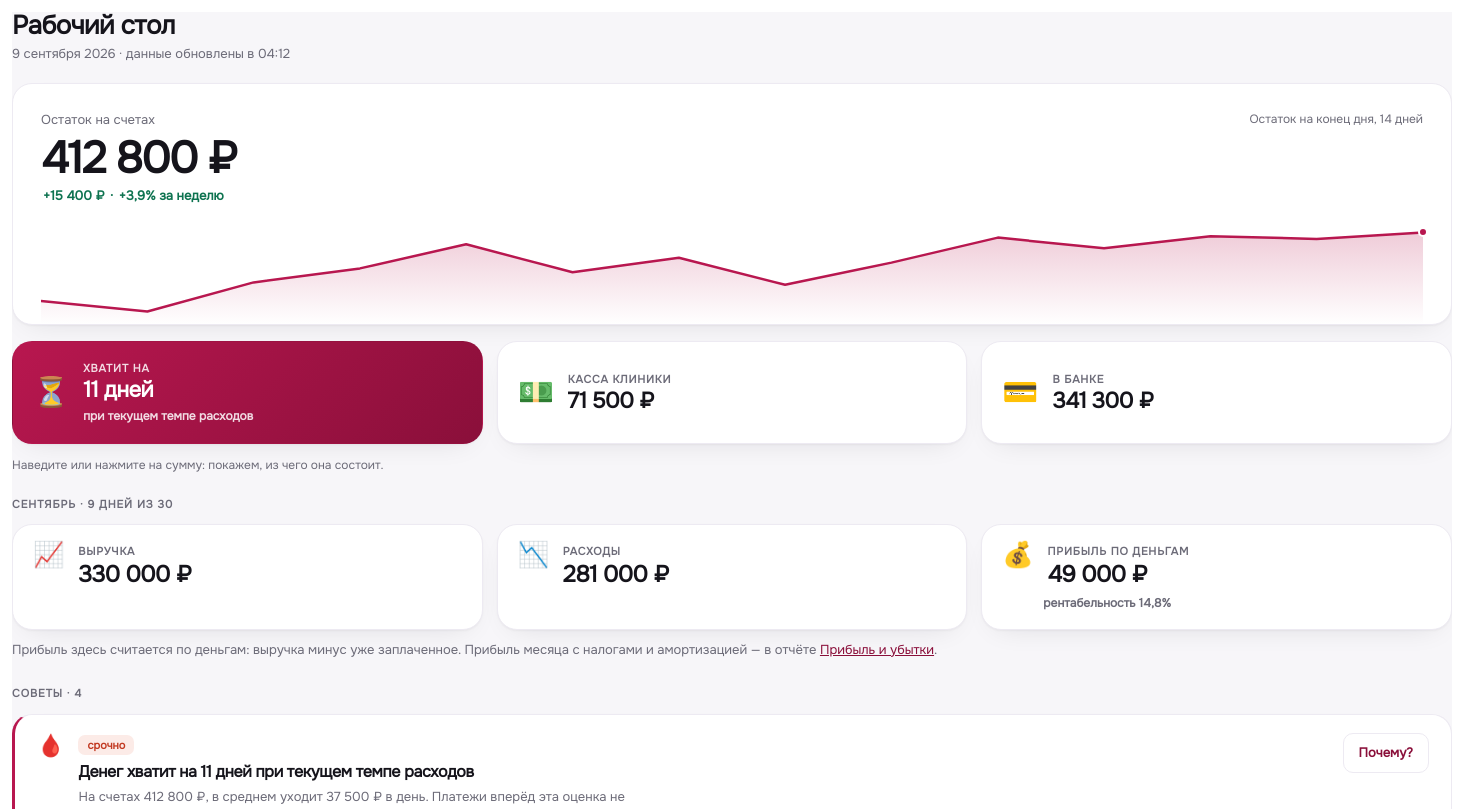
DashboardPage: tips › shows the week change tip with a signed value and the two balances
This screenshot has width=1464, height=809.
Expected: the element with test id "balance-hero" is shown, [12,83,1452,325]
Click the button with test id "figure-tip-trigger" showing "+15 400 ₽". click: (74,196)
box: [41,184,106,208]
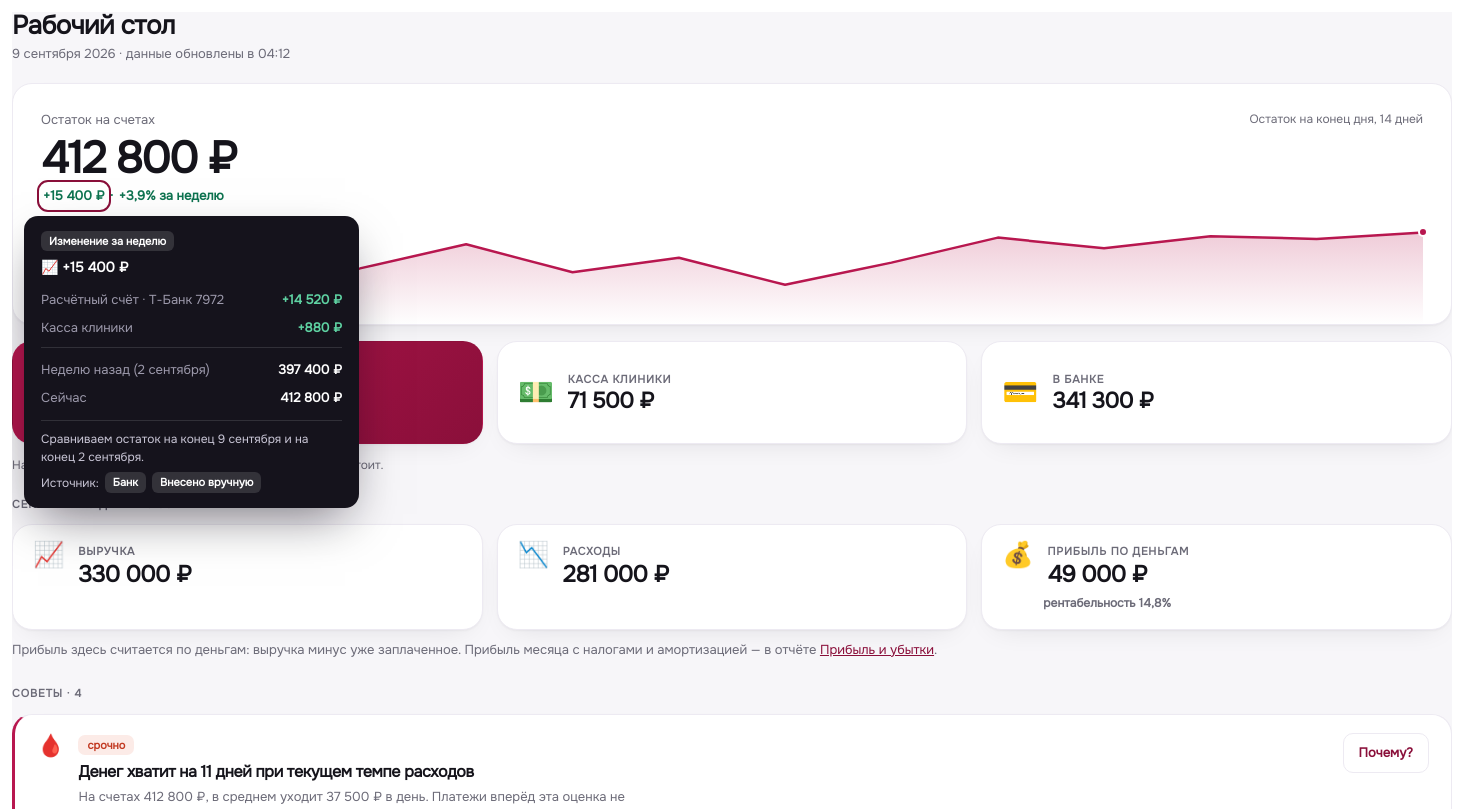
Now the tooltip with test id "figure-tip" shows "+15 400 ₽", box [62,258,128,276]
